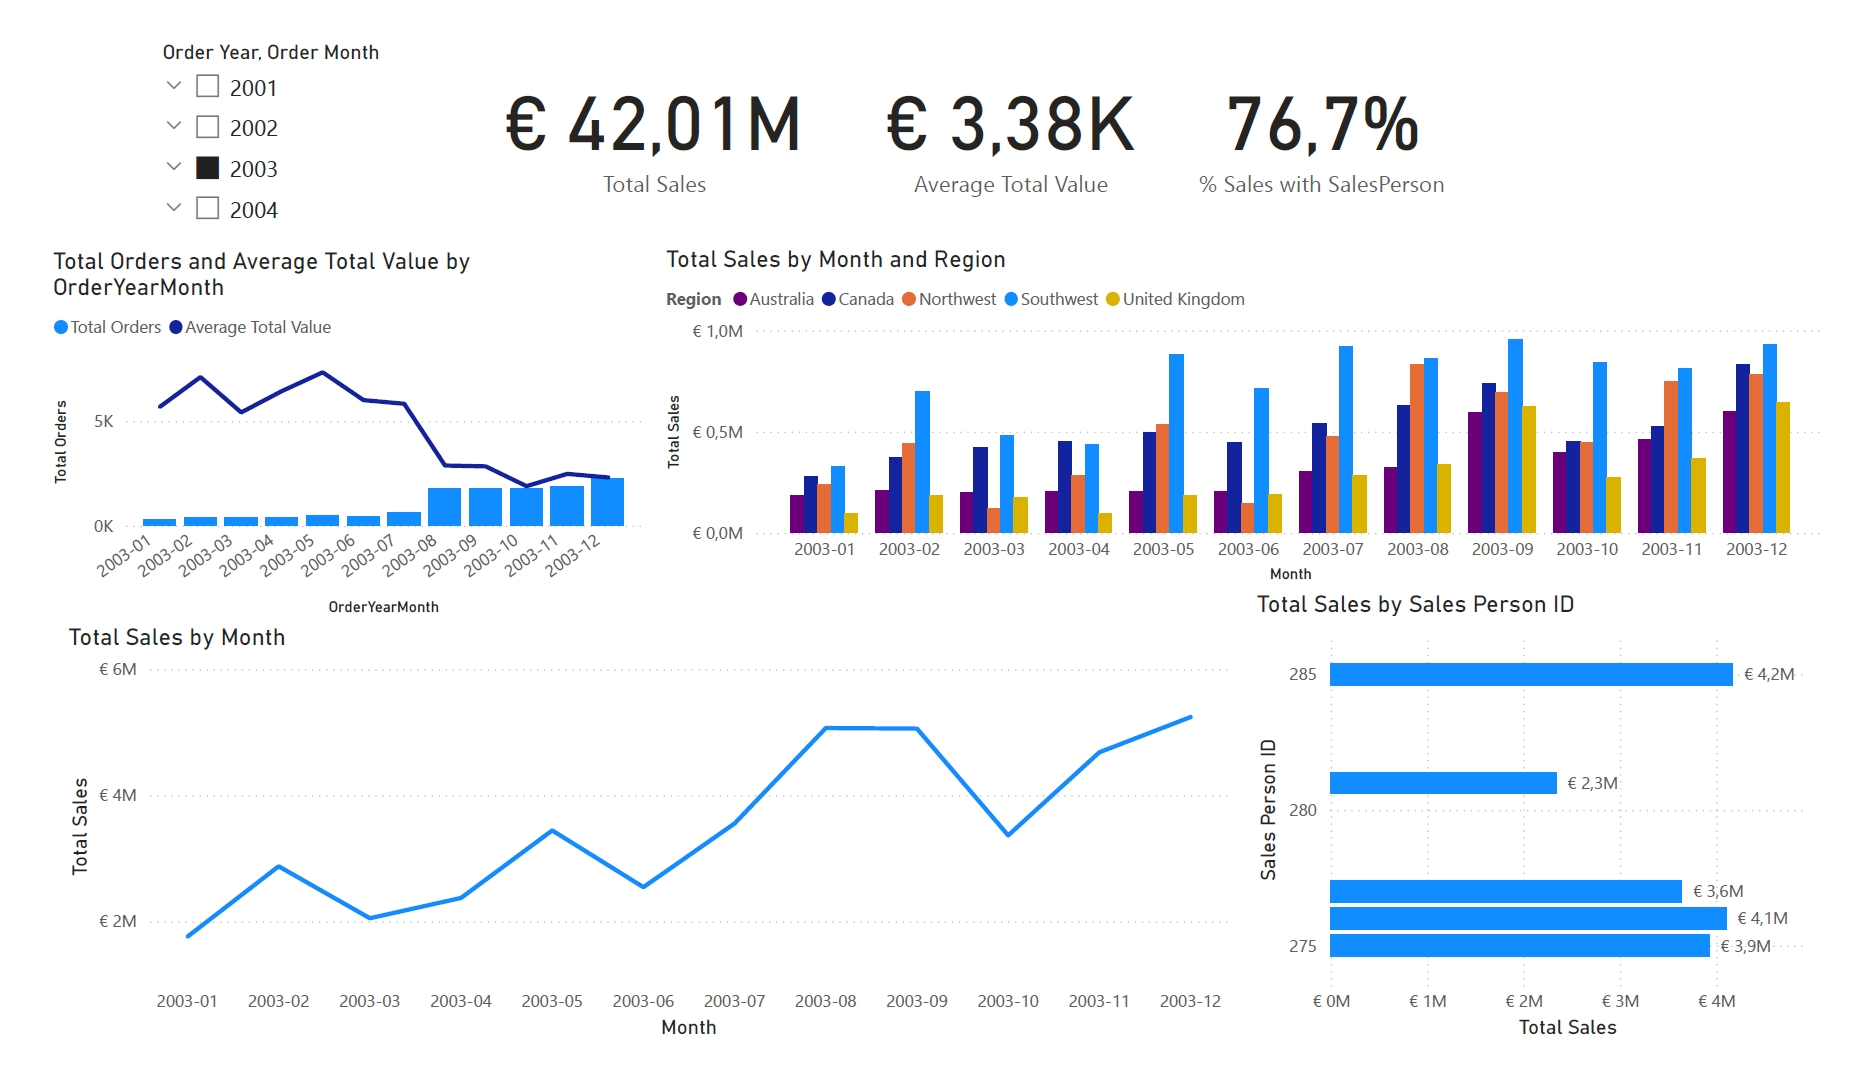

The page's visual inventory and layout, read from the dashboard file:
{"tool":"powerbi","page":{"name":"analitical","canvas":[1280,720],"ordinal":3},"visuals":[{"type":"card","fields":{"Values":["Sales SalesOrderDetail.Total Sales"]},"box":[296.8,13.1,292.3,108.4],"z":0},{"type":"card","fields":{"Values":["Sales SalesOrderHeader.% Sales with SalesPerson"]},"box":[804.5,13.1,226.4,108.4],"z":1000},{"type":"card","fields":{"Values":["Sales SalesOrderDetail.Average Total Value"]},"box":[593.2,13.1,207.2,108.4],"z":2000},{"type":"lineChart","fields":{"Y":["Sum(Sales SalesOrderDetail.LineTotal)"],"Category":["Sales SalesOrderHeader.OrderYearMonth"]},"box":[20.6,418.5,834.3,301.9],"z":3000},{"type":"clusteredColumnChart","fields":{"Category":["Sales SalesOrderHeader.OrderYearMonth"],"Series":["Sales SalesTerritory.Name"],"Y":["Sales SalesOrderDetail.Total Sales"]},"box":[446,149.6,834.3,245.6],"z":3001},{"type":"clusteredBarChart","fields":{"Category":["Sales SalesOrderHeader.SalesPersonID"],"Y":["Sum(Sales SalesOrderDetail.LineTotal)"]},"box":[865.9,395.2,414.4,325.2],"z":3002},{"type":"lineClusteredColumnComboChart","fields":{"Category":["Sales SalesOrderHeader.OrderYearMonth"],"Y":["Sales SalesOrderHeader.Total Orders"],"Y2":["Sales SalesOrderDetail.Average Total Value"]},"box":[9.6,150.9,428.1,267.6],"z":3003},{"type":"slicer","fields":{"Values":["Sales SalesOrderHeader.OrderYear","Sales SalesOrderHeader.OrderMonth"]},"box":[80.4,-0.1,237.2,151.2],"z":3004}]}

Visuals, with their boxes in screenshot pixels (x1, y1, x2, y2), scaled from the page's 1280x720 canvas onto the 1864x1079 screenshot:
card - Sales SalesOrderDetail.Total Sales: <box>432,20,858,182</box>
card - Sales SalesOrderHeader.% Sales with SalesPerson: <box>1172,20,1501,182</box>
card - Sales SalesOrderDetail.Average Total Value: <box>864,20,1166,182</box>
lineChart - Sum(Sales SalesOrderDetail.LineTotal) x Sales SalesOrderHeader.OrderYearMonth: <box>30,627,1245,1078</box>
clusteredColumnChart - Sales SalesOrderHeader.OrderYearMonth x Sales SalesTerritory.Name: <box>649,224,1863,592</box>
clusteredBarChart - Sales SalesOrderHeader.SalesPersonID x Sum(Sales SalesOrderDetail.LineTotal): <box>1261,592,1863,1078</box>
lineClusteredColumnComboChart - Sales SalesOrderHeader.OrderYearMonth x Sales SalesOrderHeader.Total Orders: <box>14,226,637,627</box>
slicer - Sales SalesOrderHeader.OrderYear x Sales SalesOrderHeader.OrderMonth: <box>117,0,463,226</box>
